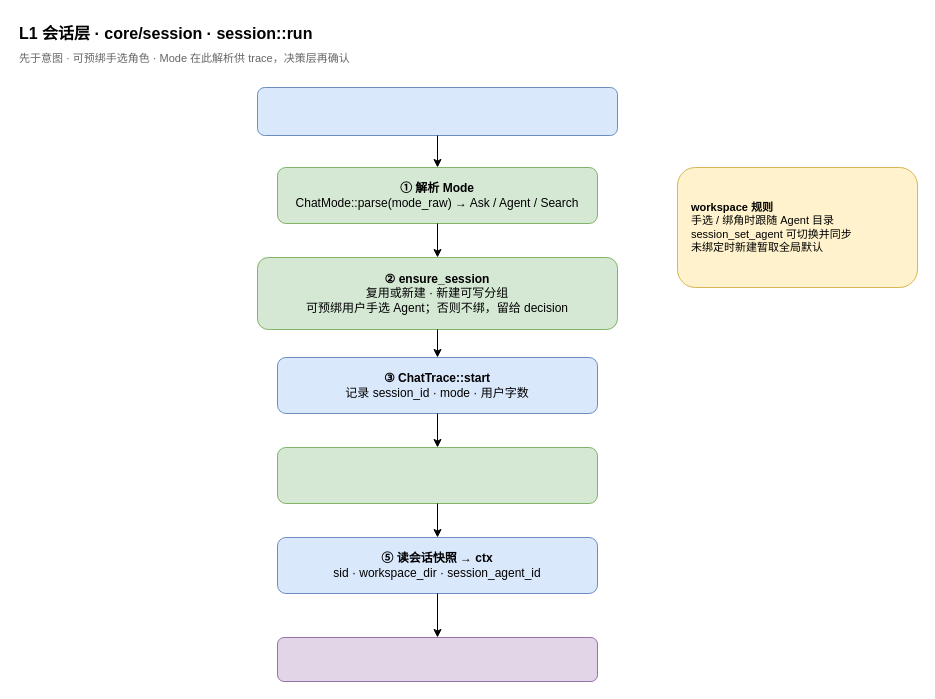
Some shapes in this 935 by 699 pixel diagram are drawn without their labels. Each missing label, with the centre of its shape:
"→ intent::run（L2） 详见 intent.drawio" belongs at pixel 437 659.
"④ push_user_message 用户原文写入会话历史并落库" belongs at pixel 437 475.
"输入：content · session_id? · mode_raw · group_id?" belongs at pixel 437 111.
